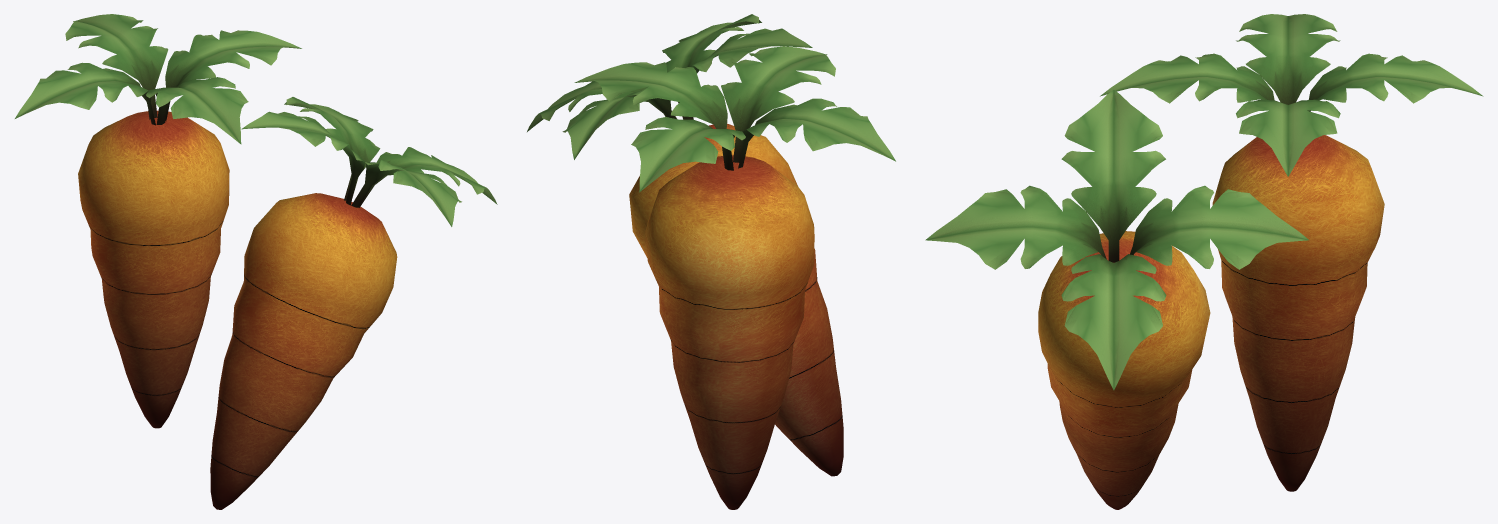
The model's file is Carrot_Stage_2.fbx.
The picture shows the model from 3 angles, left to right: view 1: azimuth 30°, elevation 25°; view 2: azimuth 150°, elevation 25°; view 3: azimuth 270°, elevation 25°; orthographic projection. The views are drawn at different scales.
Parts seen in each view (by area): view 1: Plane.004; view 2: Plane.004; view 3: Plane.004.
Boxes of the visible parts, bbox=[...] form: Plane.004: bbox=[15, 14, 497, 509]; Plane.004: bbox=[527, 14, 895, 509]; Plane.004: bbox=[925, 14, 1483, 509].
Size of the model in its own units: 94.48 by 86.29 by 98.22.
Materials: 1 (1 with a texture image).
